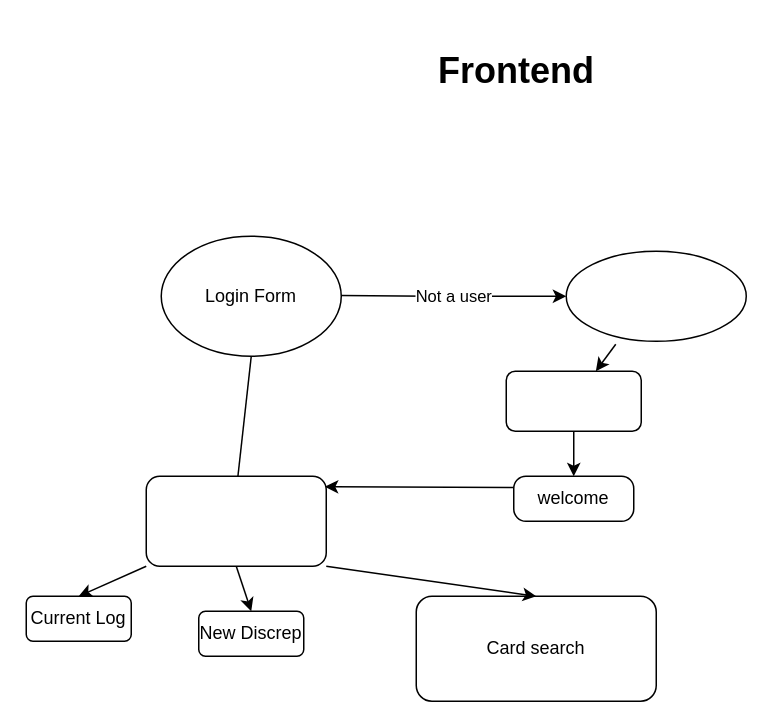
Some shapes in this 773 by 728 pixel diagram are drawn without their labels. Here are the shapes that lost their labels. From the top down, the centre of each, then its label:
(655,295): New account
(573,400): Account info form
(235,520): NavBar
